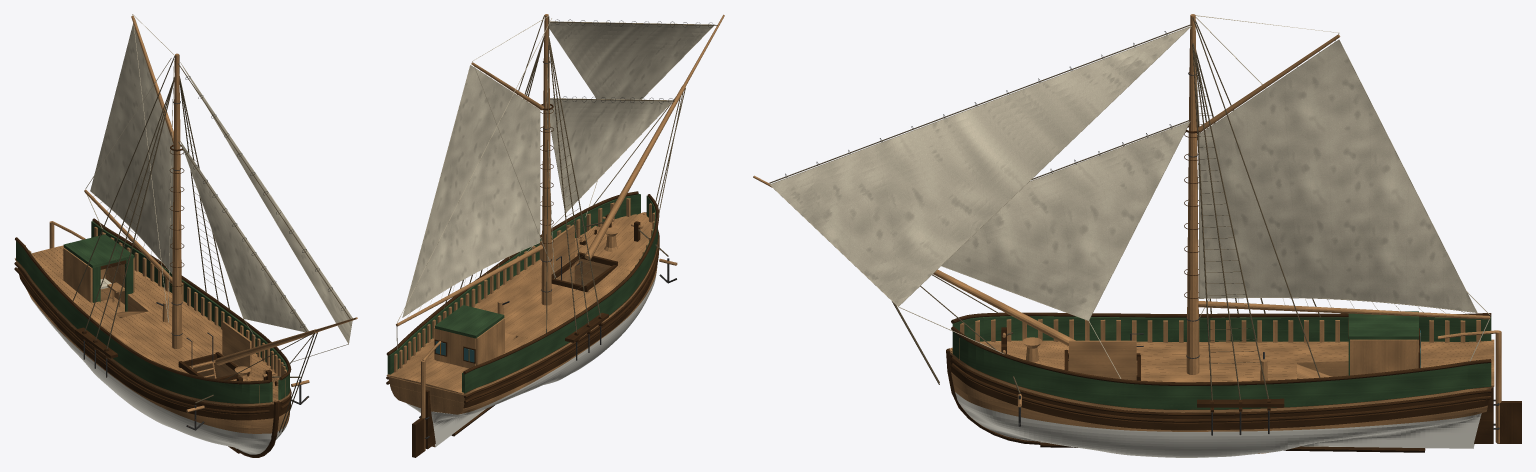
Rendered from ship.glb.
3 views of the same model, side by side, from view 1: azimuth 30°, elevation 25°; view 2: azimuth 150°, elevation 25°; view 3: azimuth 270°, elevation 25° (orthographic). The views are drawn at different scales.
Visible parts, largest first — view 1: gaff_main_set_1, sloop_hull_1, individual_deck_boards_1, inner_staysail_set_1, merchant_bulwark_1, outer_jib_set_1, main_mast, merchant_bulwark_3, cabin_roof_1, caprail_1, cabin_side_1, wale_3 (+16 smaller); view 2: gaff_main_set_1, individual_deck_boards_1, outer_jib_set_1, sloop_hull_1, inner_staysail_set_1, merchant_bulwark_1, merchant_bulwark_3, main_mast, bowsprit, cabin_roof_1, caprail_1, cabin_rear_1 (+17 smaller); view 3: gaff_main_set_1, outer_jib_set_1, sloop_hull_1, inner_staysail_set_1, merchant_bulwark_3, individual_deck_boards_1, merchant_bulwark_1, main_mast, cargo_hatch_lid_open_1, caprail_3, cabin_side_3, wale_7 (+10 smaller).
Boxes of the visible parts, bbox=[...] form: gaff_main_set_1: bbox=[90, 24, 173, 273]; sloop_hull_1: bbox=[15, 258, 290, 454]; individual_deck_boards_1: bbox=[15, 245, 279, 401]; inner_staysail_set_1: bbox=[181, 142, 308, 331]; merchant_bulwark_1: bbox=[16, 241, 272, 403]; outer_jib_set_1: bbox=[183, 67, 352, 343]; main_mast: bbox=[172, 53, 182, 348]; merchant_bulwark_3: bbox=[91, 221, 289, 399]; cabin_roof_1: bbox=[63, 234, 134, 268]; caprail_1: bbox=[15, 237, 270, 384]; cabin_side_1: bbox=[63, 248, 92, 302]; wale_3: bbox=[14, 267, 269, 413]; gaff_main_set_1: bbox=[403, 65, 539, 316]; individual_deck_boards_1: bbox=[387, 212, 652, 393]; outer_jib_set_1: bbox=[549, 22, 713, 99]; sloop_hull_1: bbox=[386, 214, 658, 447]; inner_staysail_set_1: bbox=[550, 99, 672, 212]; merchant_bulwark_1: bbox=[462, 196, 657, 393]; merchant_bulwark_3: bbox=[387, 194, 640, 374]; main_mast: bbox=[541, 14, 551, 305]; bowsprit: bbox=[584, 85, 685, 259]; cabin_roof_1: bbox=[435, 305, 504, 338]; caprail_1: bbox=[463, 194, 659, 374]; cabin_rear_1: bbox=[435, 329, 475, 368]; gaff_main_set_1: bbox=[1199, 40, 1476, 312]; outer_jib_set_1: bbox=[770, 27, 1189, 306]; sloop_hull_1: bbox=[950, 345, 1494, 457]; inner_staysail_set_1: bbox=[942, 122, 1189, 320]; merchant_bulwark_3: bbox=[952, 331, 1491, 409]; individual_deck_boards_1: bbox=[949, 339, 1494, 386]; merchant_bulwark_1: bbox=[952, 316, 1491, 341]; main_mast: bbox=[1186, 14, 1199, 374]; cargo_hatch_lid_open_1: bbox=[1069, 340, 1136, 380]; caprail_3: bbox=[951, 326, 1491, 385]; cabin_side_3: bbox=[1350, 339, 1417, 375]; wale_7: bbox=[951, 363, 1491, 422].
Bounding box in the file's own units: 5.83 × 15.4 × 24.55.
Materials: 11 (9 with a texture image).
